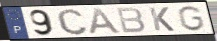9: (28, 8, 55, 37)
A: (88, 7, 124, 35)
B: (115, 6, 147, 34)
C: (55, 8, 89, 36)
G: (176, 5, 206, 32)
K: (148, 7, 176, 32)
